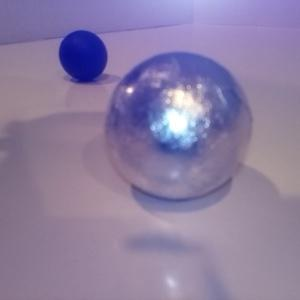alive_ball: (105, 52, 253, 201)
dead_ball: (58, 30, 108, 81)
